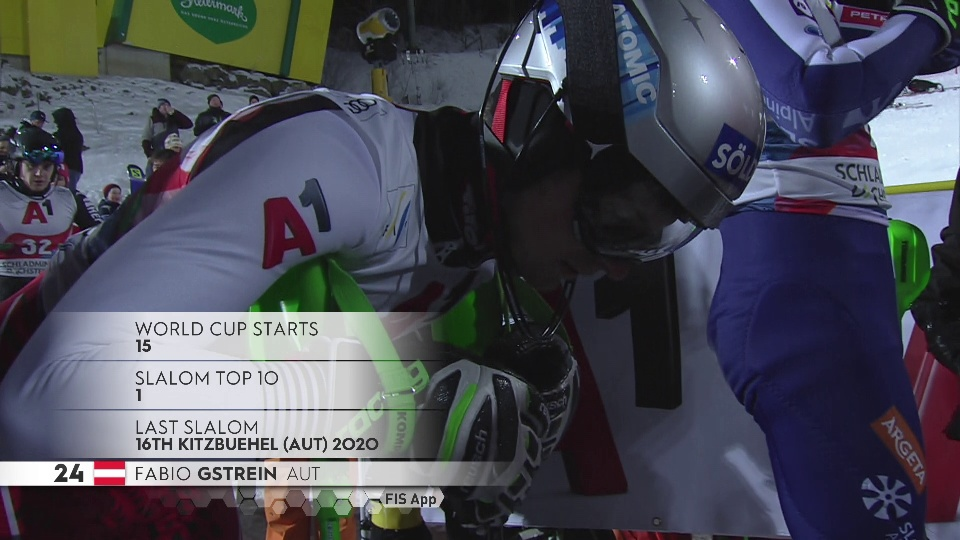a1: (253, 181, 343, 271), (20, 200, 57, 229)
steiermark: (173, 1, 259, 48)
